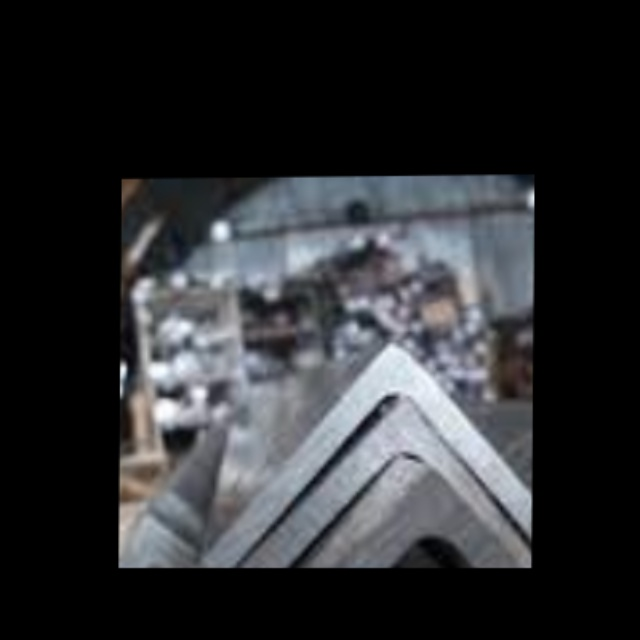Angle: (220, 363, 533, 561), (231, 433, 533, 568), (205, 504, 532, 568)
